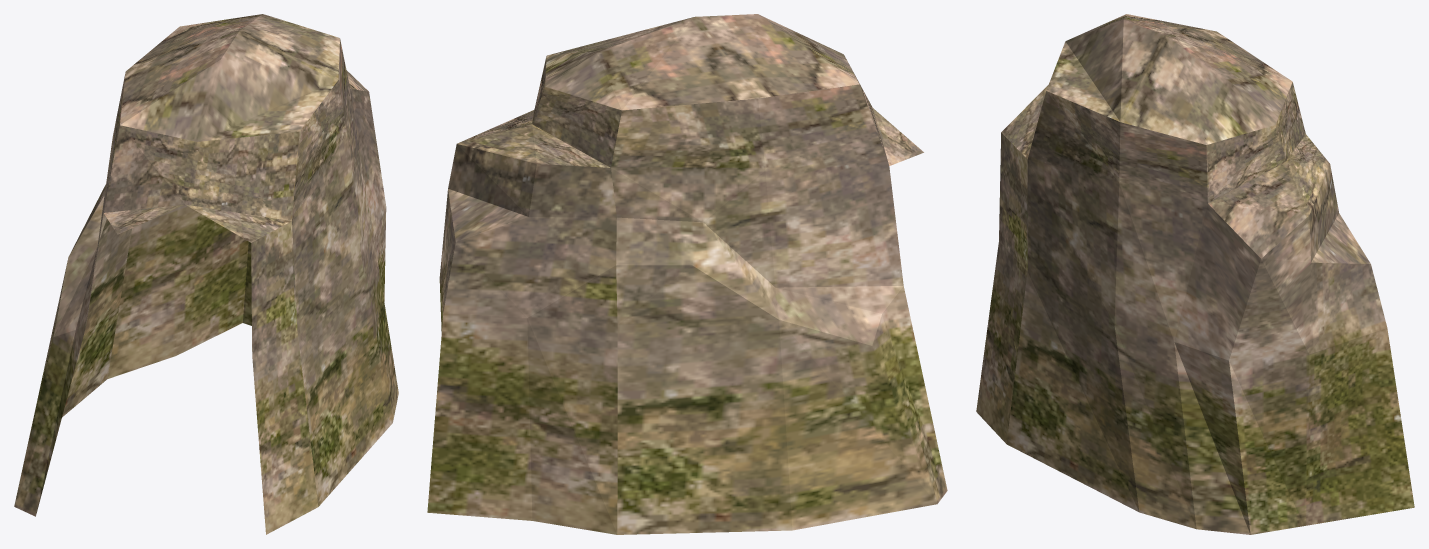
File: town_mountain_a__11___1_30.fbx
The picture shows the model from 3 angles, left to right: view 1: azimuth 30°, elevation 25°; view 2: azimuth 150°, elevation 25°; view 3: azimuth 270°, elevation 25°; orthographic projection. The views are drawn at different scales.
Parts seen in each view (by area): view 1: town_mountain_a__11___1_30; view 2: town_mountain_a__11___1_30; view 3: town_mountain_a__11___1_30.
Part boxes in pixels (x1,y1,x2,y2): town_mountain_a__11___1_30: [14, 14, 398, 534]; town_mountain_a__11___1_30: [427, 14, 947, 534]; town_mountain_a__11___1_30: [976, 14, 1414, 534].
Bounding box in the file's own units: 23.99 × 22.91 × 22.24.
